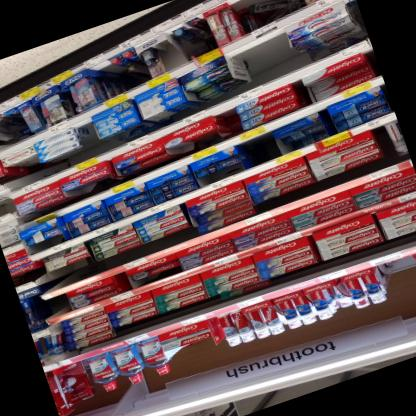empty_space: (225, 28, 299, 93), (91, 61, 138, 101), (236, 131, 281, 170), (377, 260, 410, 306), (72, 117, 106, 160), (395, 255, 416, 301)
